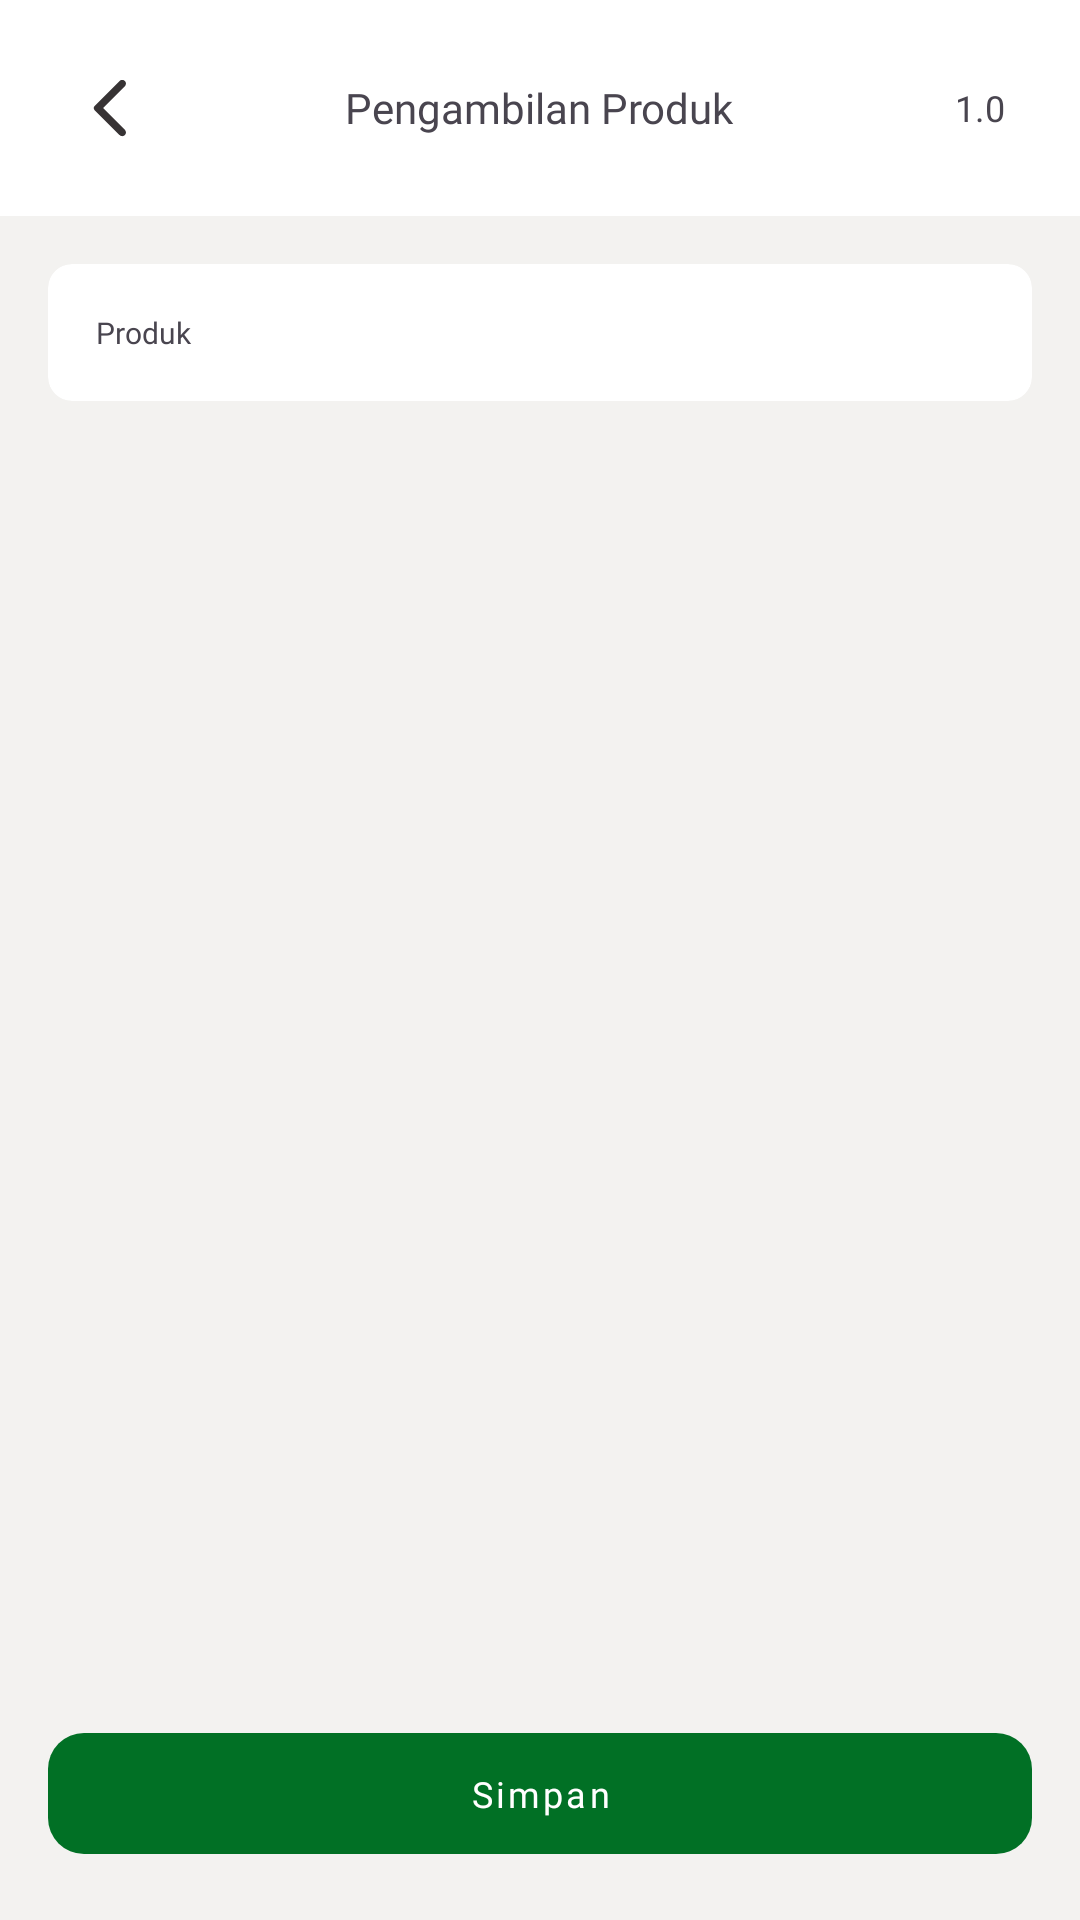

Locate icon controls on the screen. Image size 1080w x 1920h, boxes as detection(x1, y1, x2, y2).
arrow back: detection(93, 80, 126, 137)
